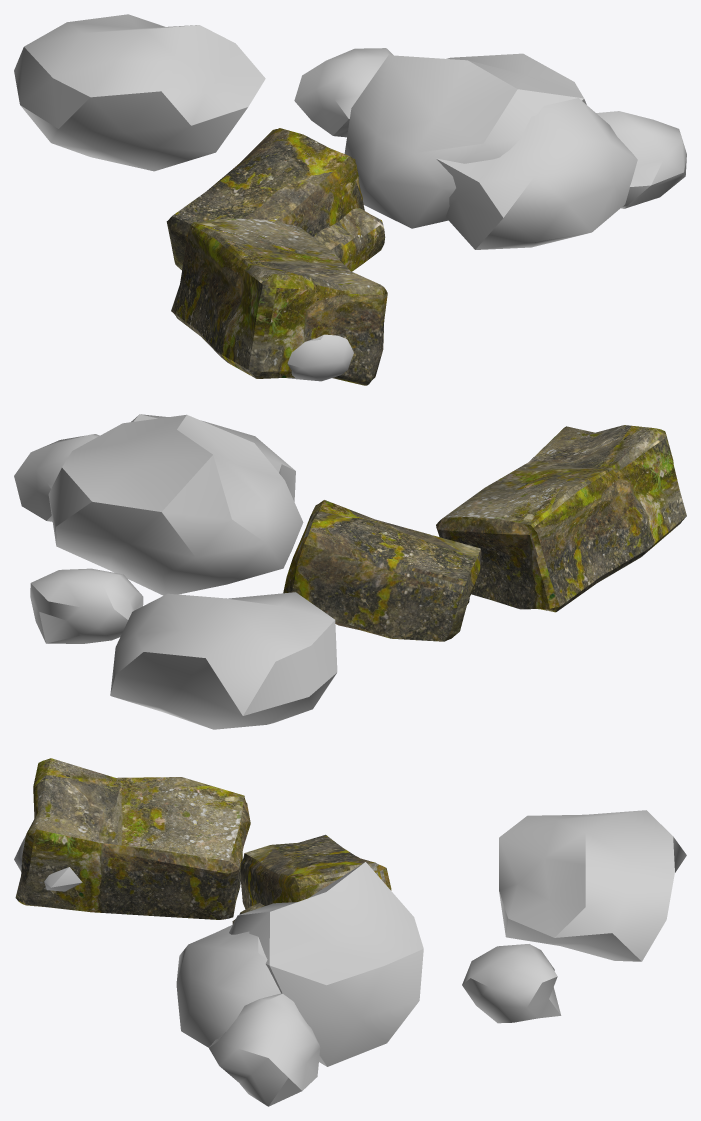
File: SM_Rubble_Pile.fbx
The picture shows the model from 3 angles, top to bottom: view 1: azimuth 30°, elevation 25°; view 2: azimuth 150°, elevation 25°; view 3: azimuth 270°, elevation 25°; orthographic projection. The views are drawn at different scales.
Parts seen in each view (by area): view 1: SM_Rubble_Pile; view 2: SM_Rubble_Pile; view 3: SM_Rubble_Pile.
Boxes of the visible parts, box(x1,y1,x2,y2) form: SM_Rubble_Pile: box(14, 14, 686, 385); SM_Rubble_Pile: box(14, 414, 686, 729); SM_Rubble_Pile: box(14, 758, 686, 1106).
Bounding box in the file's own units: 1.52 × 0.3822 × 1.7.
